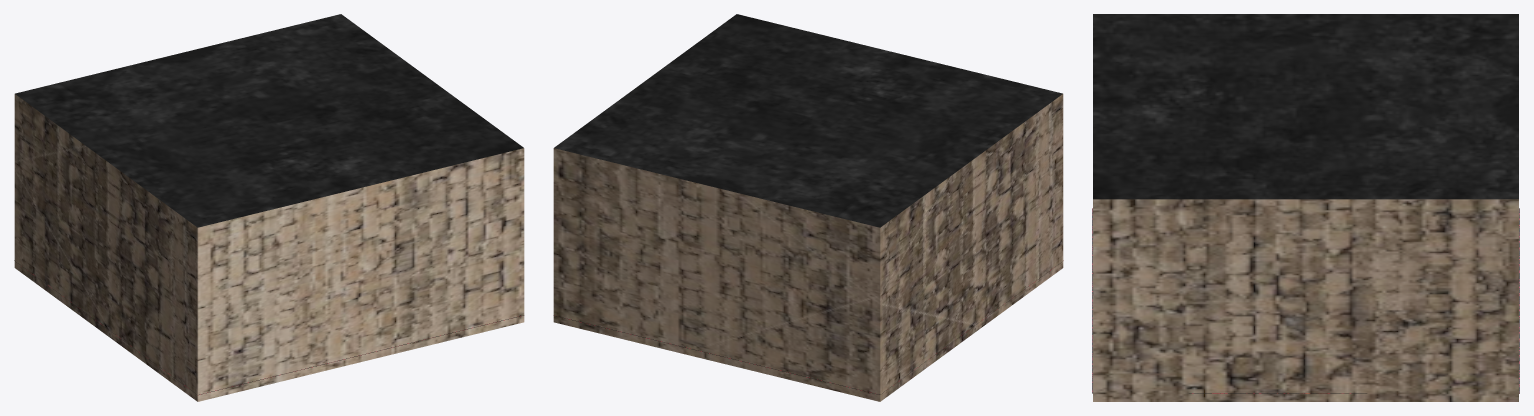
Rendered from EscenarioCasino.fbx.
3 views of the same model, side by side, from view 1: azimuth 30°, elevation 25°; view 2: azimuth 150°, elevation 25°; view 3: azimuth 270°, elevation 25° (orthographic). The views are drawn at different scales.
Parts seen in each view (by area): view 1: Cube.001; view 2: Cube.001; view 3: Cube.001.
Part boxes in pixels (x1,y1,x2,y2): Cube.001: [14, 14, 524, 401]; Cube.001: [553, 14, 1063, 401]; Cube.001: [1092, 14, 1519, 401].
Size of the model in its own units: 2271 by 1157 by 2211.
Materials: 53 (53 with a texture image).
